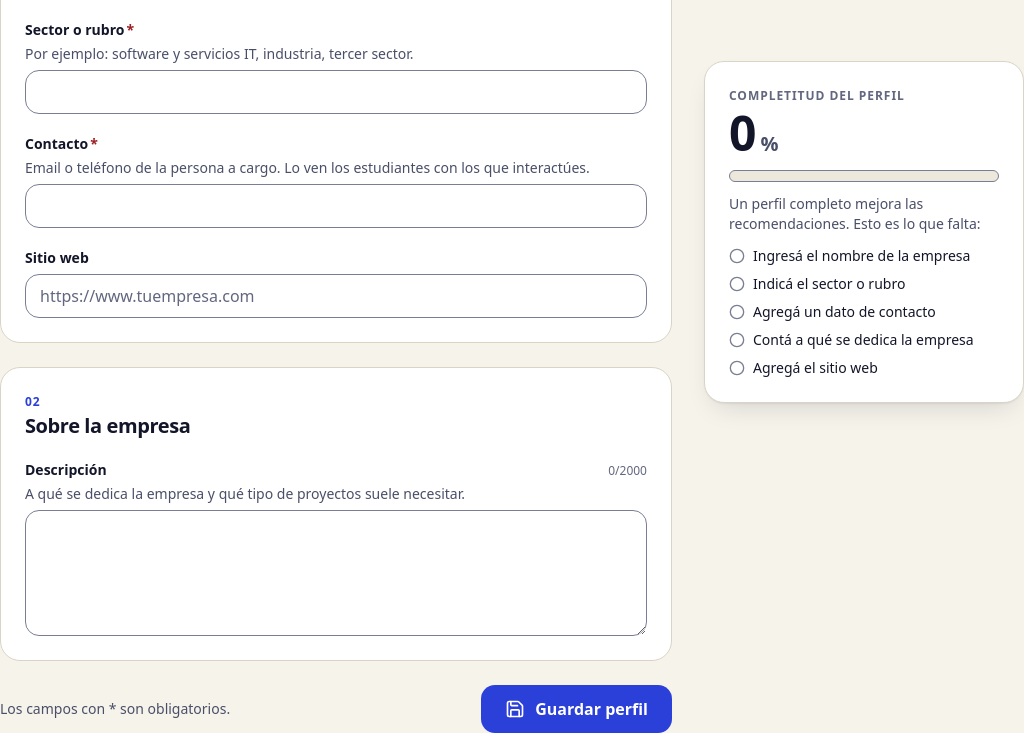
Test case: PerfilEmpresaForm › pide nombre, sector y contacto, y no guarda con el formulario vacío
(page scrolled)
Click the button "Guardar perfil" at (577, 709), box [481, 685, 672, 732]
(page scrolled)
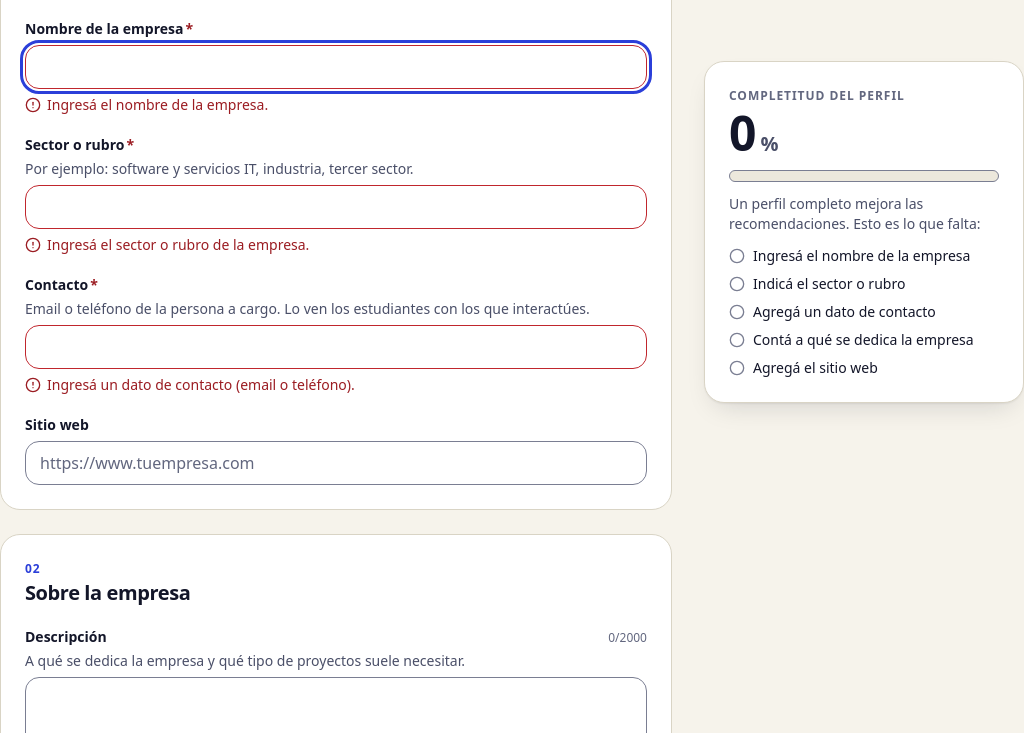
Result: the text "Ingresá el nombre de la empresa." is shown at [47, 95, 268, 115]
Result: the text "Ingresá el sector o rubro de la empresa." is shown at [47, 235, 309, 255]
Result: the text "Ingresá un dato de contacto (email o teléfono)." is shown at [47, 375, 355, 395]
